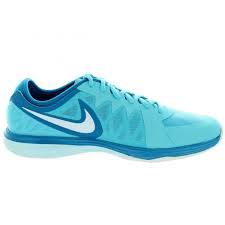nike: (27, 106, 98, 136)
